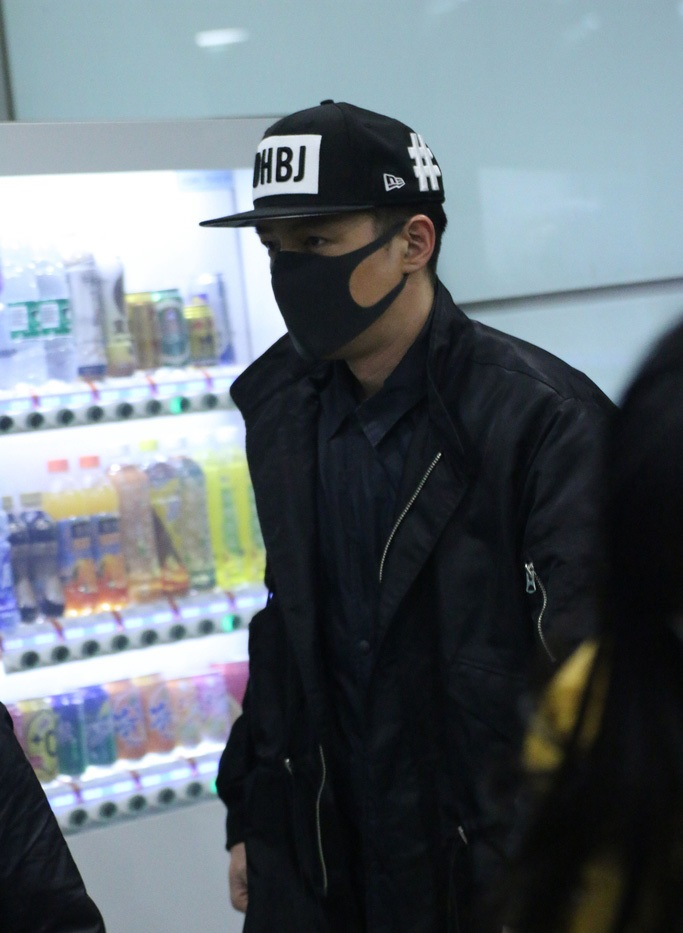face_mask: (259, 183, 379, 365)
